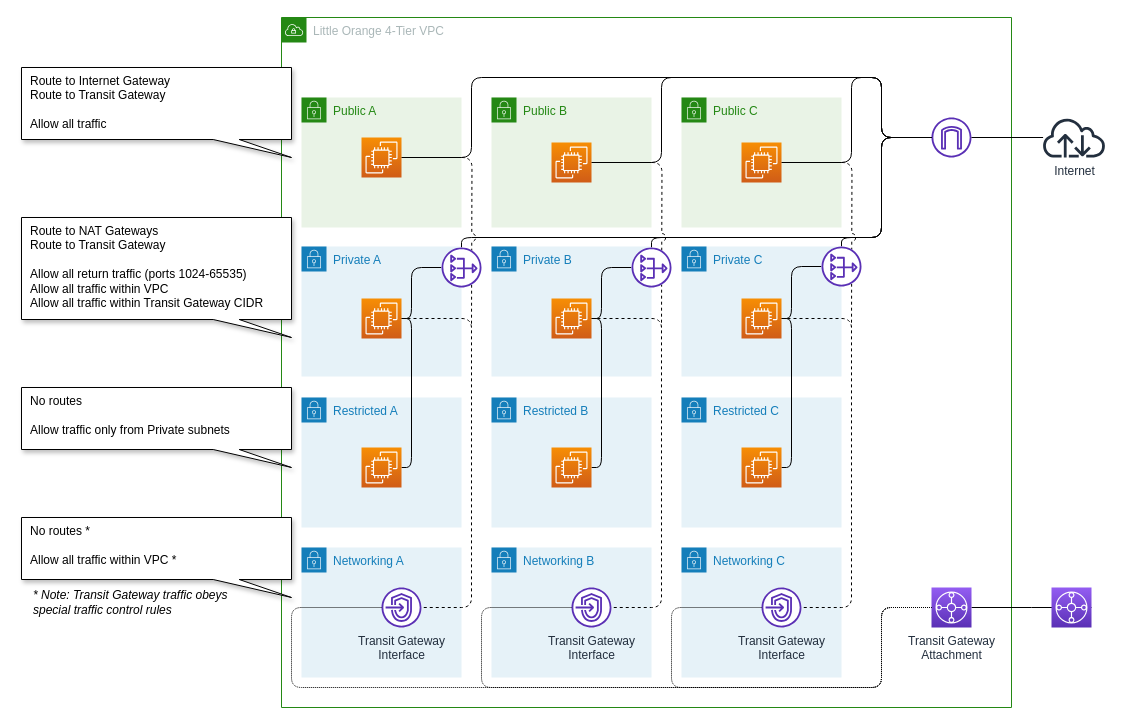
The diagram is 1132 pixels wide and 725 high, and some of its shapes have lost their labels. Each missing label, with the centre of its shape:
Internet Gateway: the point at 951,137
NAT A: the point at 461,267
NAT B: the point at 651,267
NAT C: the point at 841,266
Transit Gateway: the point at 1071,607
